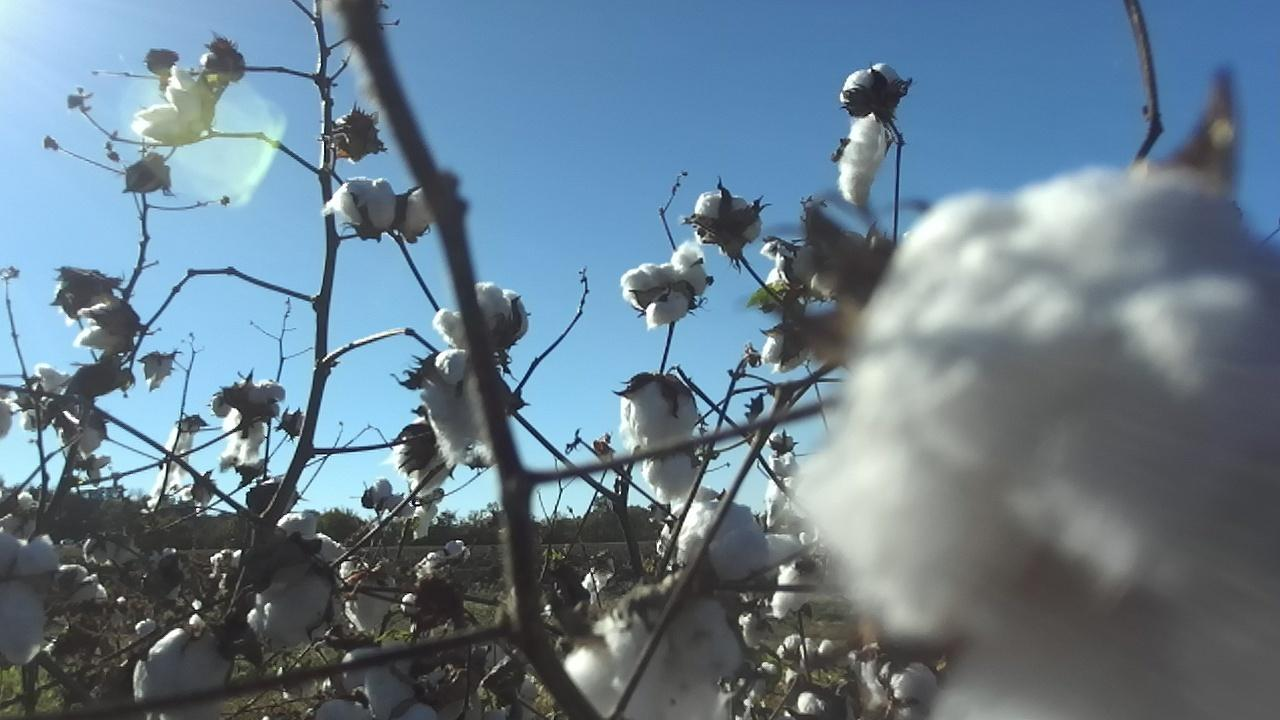cotton_ready: (805, 169, 1280, 720), (612, 582, 742, 719), (131, 627, 237, 720), (316, 644, 444, 720), (245, 570, 345, 654), (0, 529, 59, 664), (427, 348, 491, 469), (678, 499, 769, 582), (624, 240, 706, 329), (433, 284, 529, 350), (620, 374, 701, 451), (862, 640, 941, 718), (569, 612, 626, 716), (215, 380, 287, 462), (134, 63, 208, 139), (382, 416, 453, 495), (765, 532, 819, 616), (839, 117, 890, 204), (279, 507, 351, 567), (319, 177, 393, 234), (765, 238, 825, 300), (694, 190, 760, 244), (837, 62, 902, 111), (644, 449, 702, 502), (347, 575, 399, 632), (55, 564, 109, 615), (75, 300, 124, 349), (400, 185, 439, 243), (762, 332, 805, 375)
